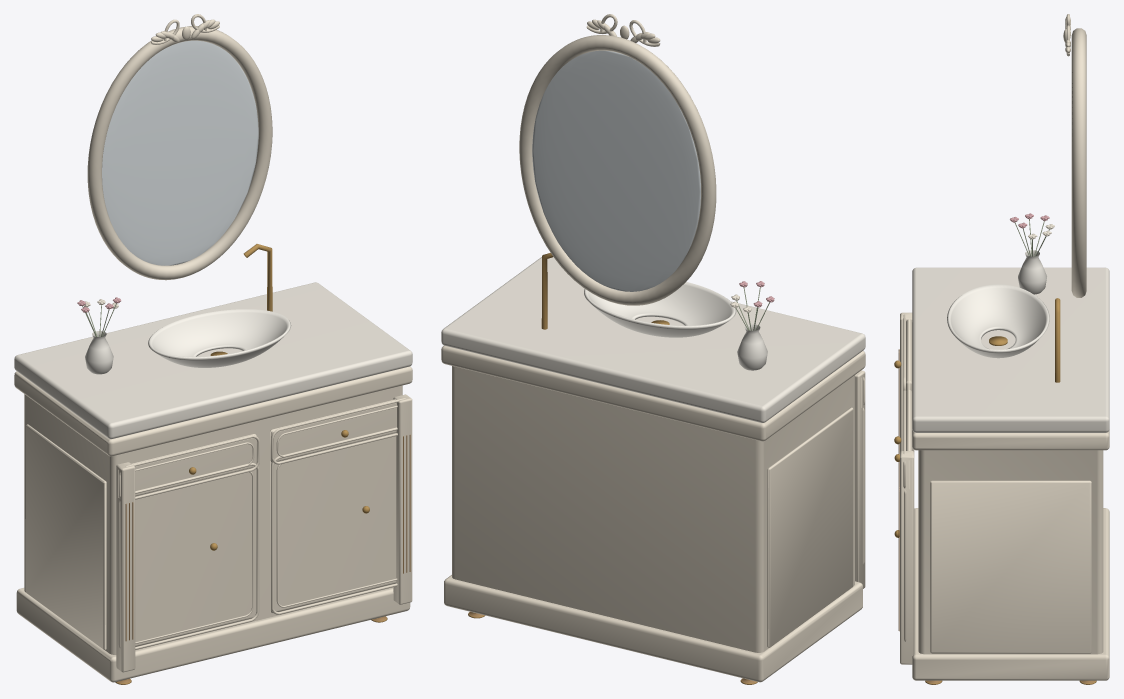
Rendered from vanity.glb.
3 renders of one model, left to right at view 1: azimuth 30°, elevation 25°; view 2: azimuth 150°, elevation 25°; view 3: azimuth 270°, elevation 25°, orthographic. The views are drawn at different scales.
Visible parts, largest first — view 1: vanity__Warm aged ivory lacquer, vanity__Silvered mirror, vanity__Honed ivory marble, vanity__Glazed ivory ceramic, vanity__Honey ash exposed edges, vanity__Antique brass; view 2: vanity__Warm aged ivory lacquer, vanity__Silvered mirror, vanity__Honed ivory marble, vanity__Glazed ivory ceramic; view 3: vanity__Warm aged ivory lacquer, vanity__Honed ivory marble, vanity__Glazed ivory ceramic, vanity__Antique brass, vanity__Honey ash exposed edges.
Part boxes in pixels (x1,y1,x2,y2): vanity__Warm aged ivory lacquer: (14, 14, 412, 682); vanity__Silvered mirror: (102, 40, 258, 265); vanity__Honed ivory marble: (14, 282, 412, 439); vanity__Glazed ivory ceramic: (85, 309, 291, 374); vanity__Honey ash exposed edges: (115, 434, 410, 684); vanity__Antique brass: (116, 244, 387, 684); vanity__Warm aged ivory lacquer: (441, 14, 865, 682); vanity__Silvered mirror: (532, 50, 700, 291); vanity__Honed ivory marble: (441, 257, 865, 422); vanity__Glazed ivory ceramic: (584, 282, 767, 370); vanity__Warm aged ivory lacquer: (900, 14, 1109, 680); vanity__Honed ivory marble: (912, 267, 1109, 432); vanity__Glazed ivory ceramic: (947, 250, 1049, 358); vanity__Antique brass: (894, 298, 1096, 684); vanity__Honey ash exposed edges: (898, 349, 1096, 684).
Size of the model in its own units: 1 by 1.84 by 0.6.
